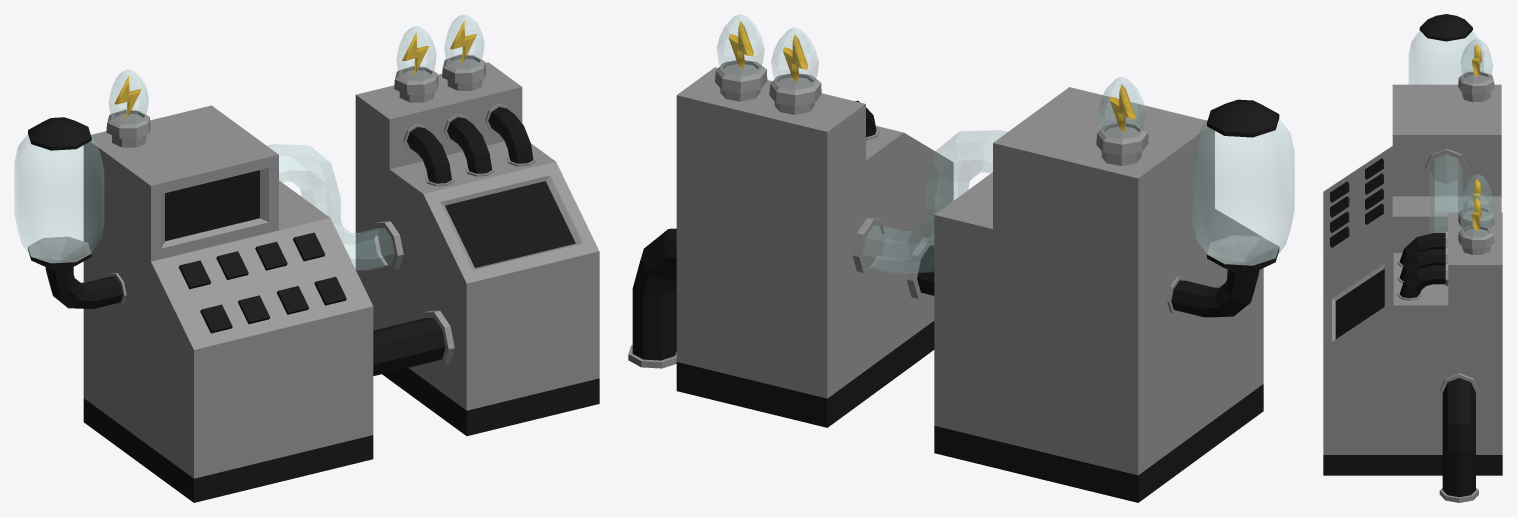
The model's file is obj_machine_crystal.FBX.
3 renders of one model, left to right at view 1: azimuth 30°, elevation 25°; view 2: azimuth 150°, elevation 25°; view 3: azimuth 270°, elevation 25°, orthographic. The views are drawn at different scales.
Parts seen in each view (by area): view 1: obj_machine_crystal; view 2: obj_machine_crystal; view 3: obj_machine_crystal.
Part boxes in pixels (x1,y1,x2,y2): obj_machine_crystal: (14, 14, 599, 502); obj_machine_crystal: (628, 14, 1294, 502); obj_machine_crystal: (1323, 14, 1502, 502).
Size of the model in its own units: 22.93 by 13.73 by 7.72.
